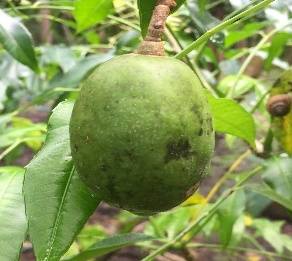Coc: (71, 54, 213, 214)
